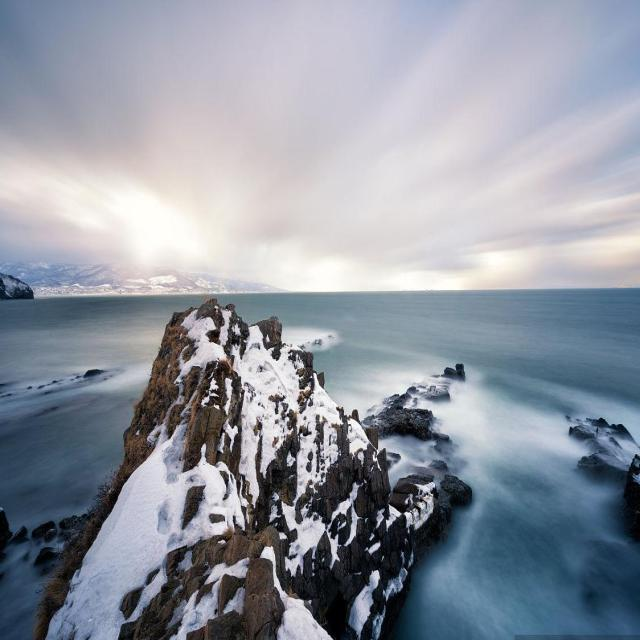reef: (44, 258, 482, 640), (561, 387, 640, 513)
